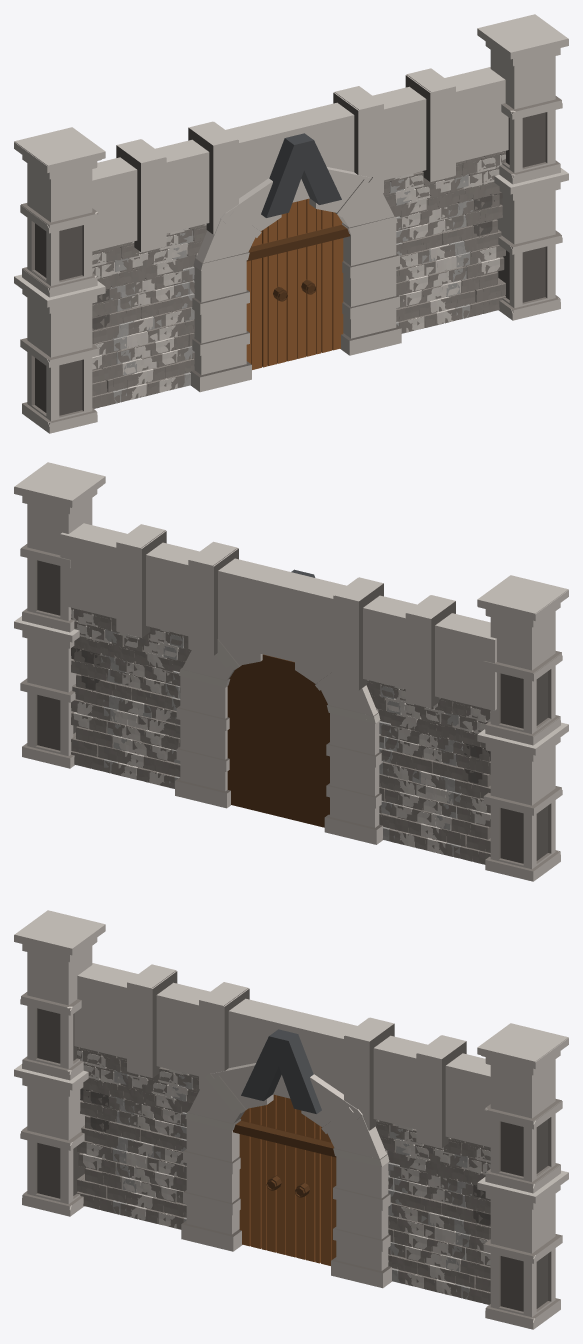
File: CLOSEGATE.fbx
The picture shows the model from 3 angles, top to bottom: view 1: azimuth 30°, elevation 25°; view 2: azimuth 150°, elevation 25°; view 3: azimuth 330°, elevation 25°; orthographic projection.
Visible parts, largest first — view 1: Cube.043; view 2: Cube.043; view 3: Cube.043.
Boxes of the visible parts, x1,y1,x2,y2 form: Cube.043: (14,14,568,433); Cube.043: (14,462,568,881); Cube.043: (14,910,568,1329).
Size of the model in its own units: 5384 by 2677 by 616.
